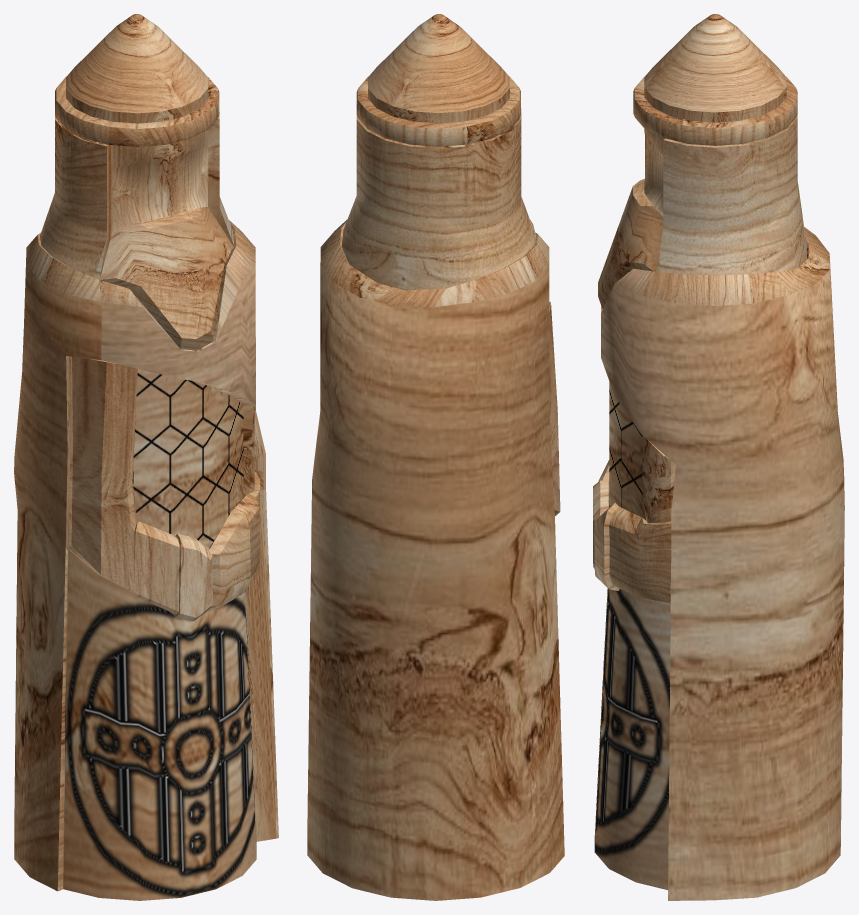
The model's file is Wooden Viking.FBX.
3 renders of one model, left to right at view 1: azimuth 30°, elevation 25°; view 2: azimuth 150°, elevation 25°; view 3: azimuth 270°, elevation 25°, orthographic.
Visible parts, largest first — view 1: Wooden Viking; view 2: Wooden Viking; view 3: Wooden Viking.
Part boxes in pixels (<box>): Wooden Viking: <box>14,14,278,900</box>; Wooden Viking: <box>307,14,564,900</box>; Wooden Viking: <box>593,14,844,900</box>.
Bounding box in the file's own units: 190 × 668 × 184.
Materials: 3 (3 with a texture image).
